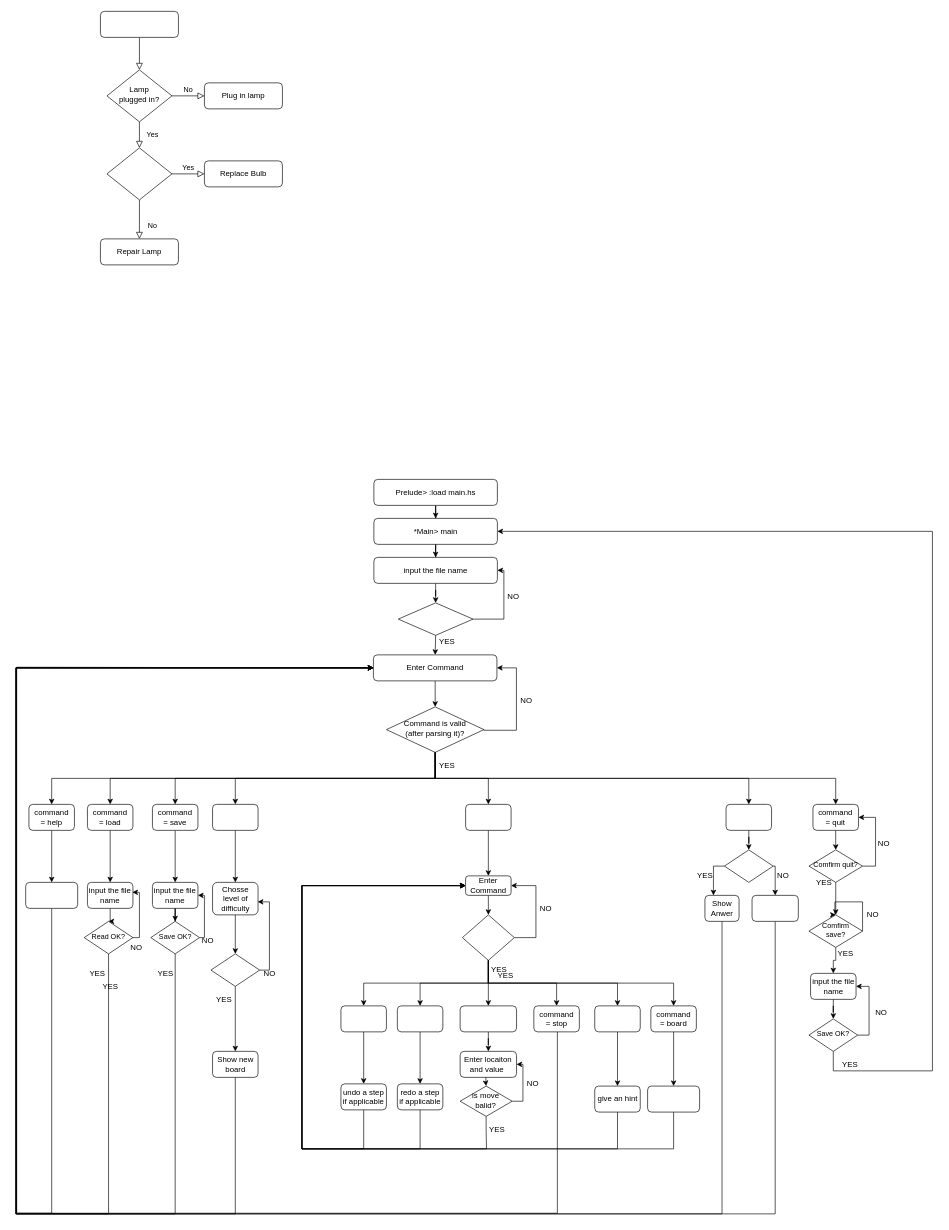
This 949x1230 diagram has some shape labels left out. Here are the shapes that lost their labels. From the top down, the centre of each, then its label:
(139,24): Lamp doesn't work
(139,173): Bulb burned out?
(435,618): Read successfully?
(235,817): command = new
(488,817): command = move
(748,817): command = solve
(748,865): Solvable?
(51,895): show info of all commands
(774,908): Say "unsolvable"
(488,937): Command is valid?
(235,969): level is valid?
(363,1018): command = undo
(420,1018): command = redo
(488,1018): command = ENTER KEY
(617,1018): command = hint
(673,1098): print the current board
